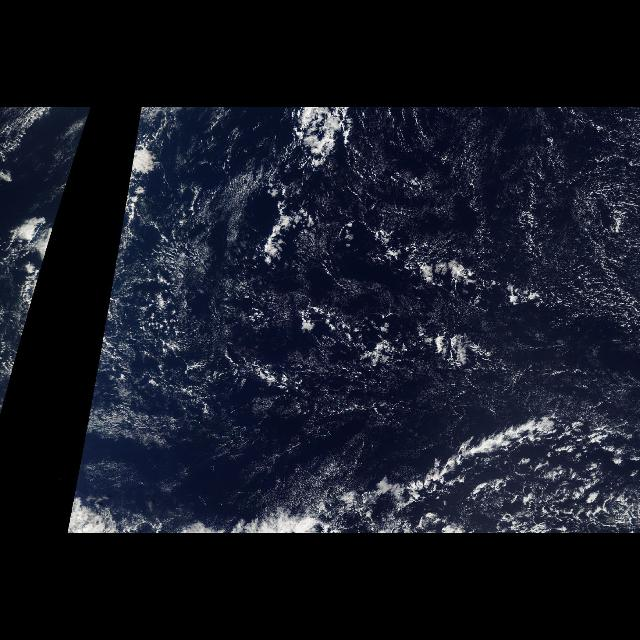Gravel: (117, 184, 353, 424), (424, 110, 638, 322), (509, 452, 638, 528)
Sugar: (142, 110, 640, 426), (92, 450, 344, 506)
